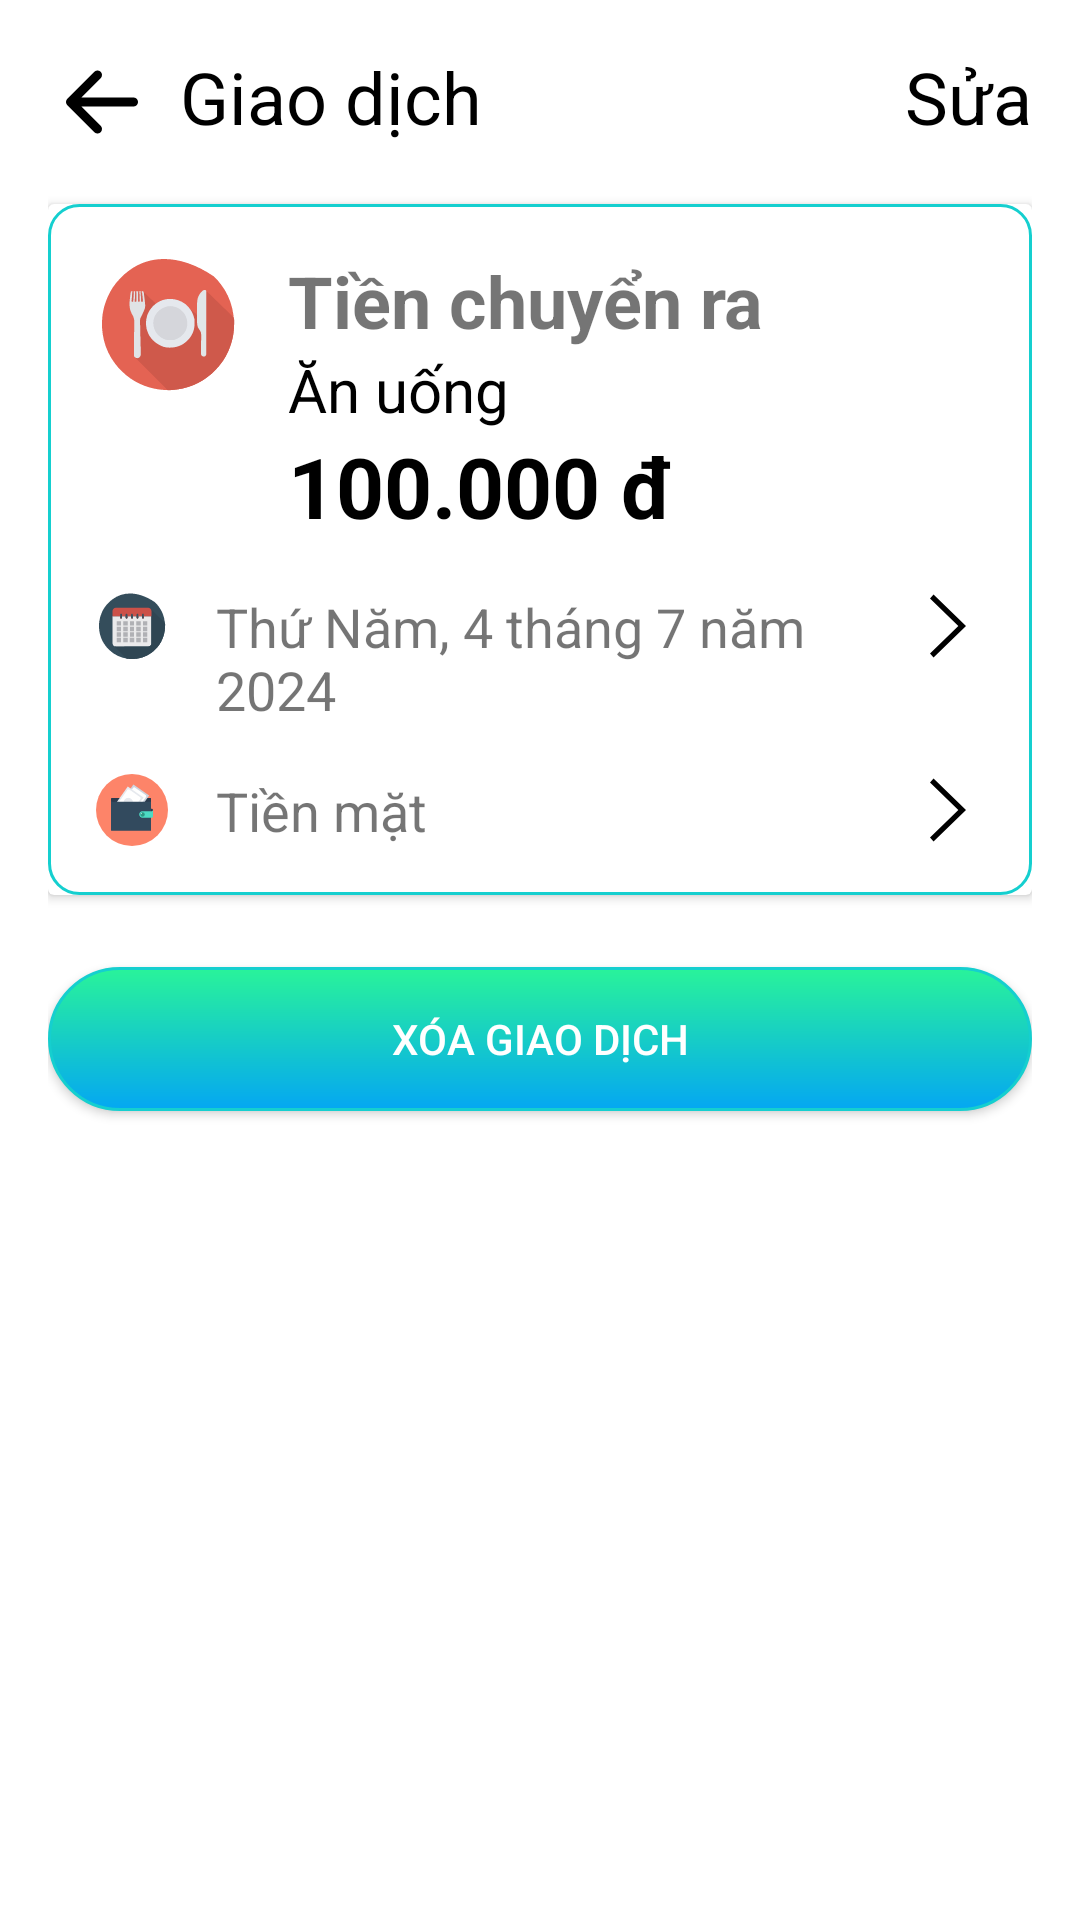

Screen size 1080px×1920px. Icon name, then its box in pixels as (x1, y1, x2, y2):
Back: (66, 70, 138, 134)
calendar: (99, 593, 166, 659)
Food icon: (102, 259, 235, 391)
right: (930, 594, 966, 658), (930, 778, 966, 842)
wallet: (96, 774, 168, 846)
